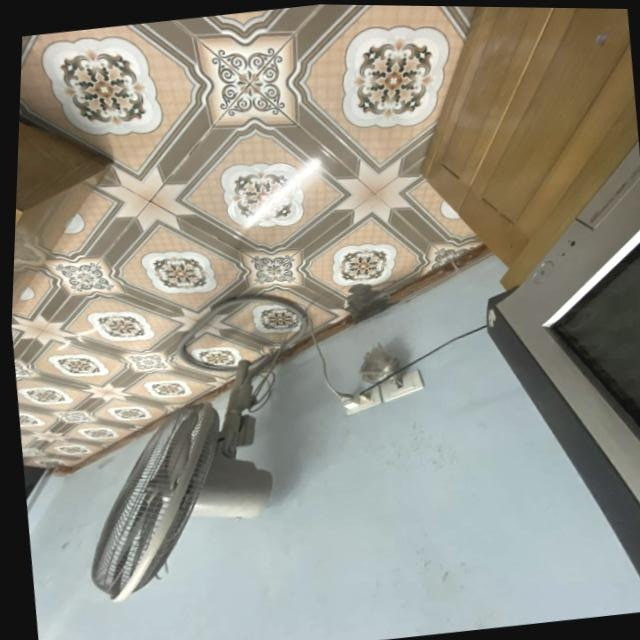outlet: (377, 368, 426, 404), (340, 384, 382, 417)
